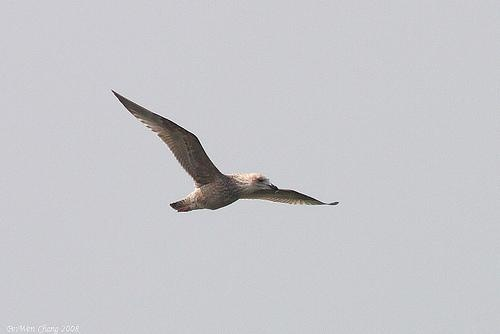bird: (107, 84, 339, 212)
